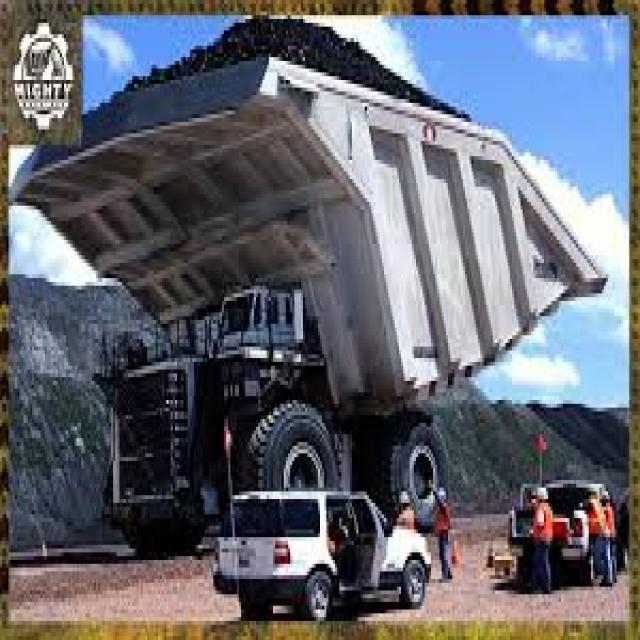dump_truck: (0, 0, 610, 530)
